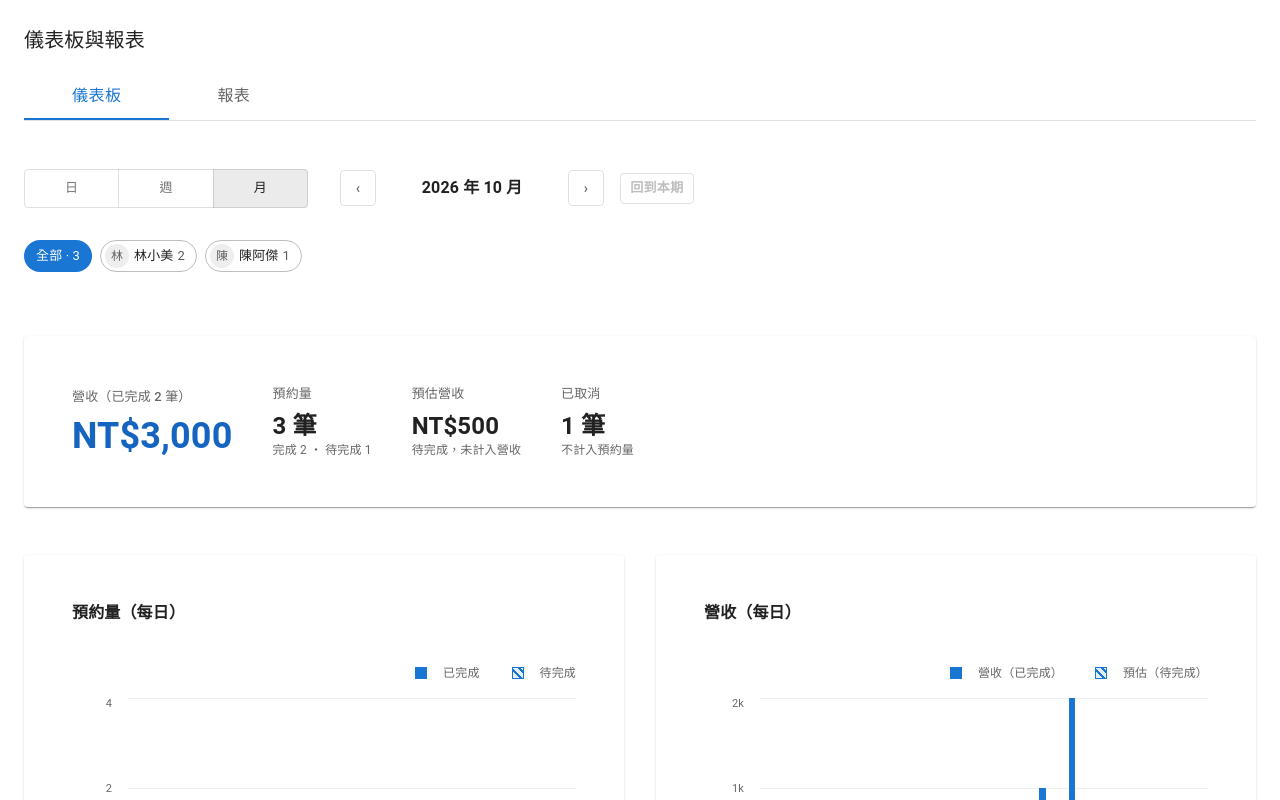
ReportsView › 設計師 chip › 勾選後出現「清除篩選」，按下回到全部並恢復數字
Expected: the text "NT$3,000" is shown, [72,414,232,459]
Expected: the button "清除篩選" is not shown
What coordinates should you click on to do the following:
click the button "林 林小美 2"
I would click on:
 (149, 256)
Its box is [100,240,197,272].
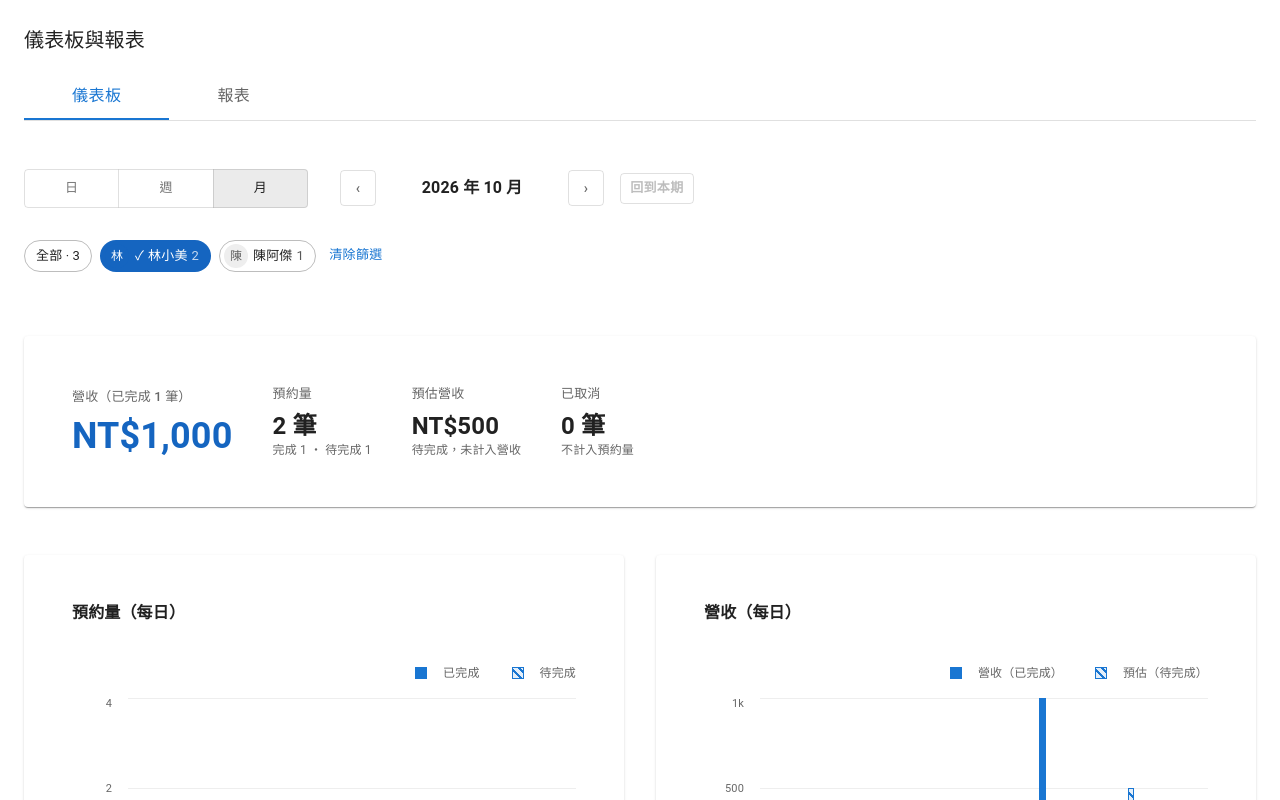
Result: the text with test id "revenue-main" reads "NT$1,000" at [72,415,232,457]
What coordinates should you click on to do the following:
click the button "清除篩選"
I would click on:
 (356, 256)
Its box is [324,240,388,271].
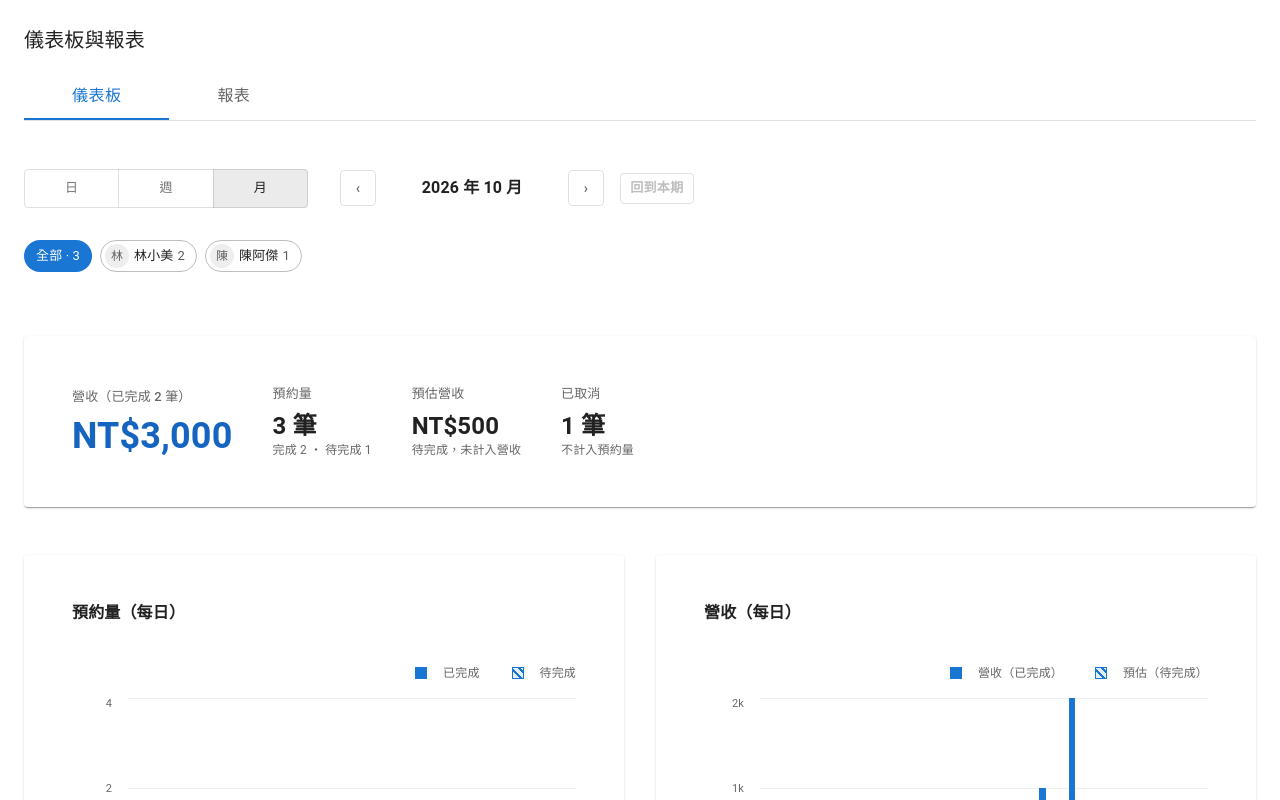
Result: the button "清除篩選" is gone
Result: the text with test id "revenue-main" reads "NT$3,000" at [72,415,232,457]
